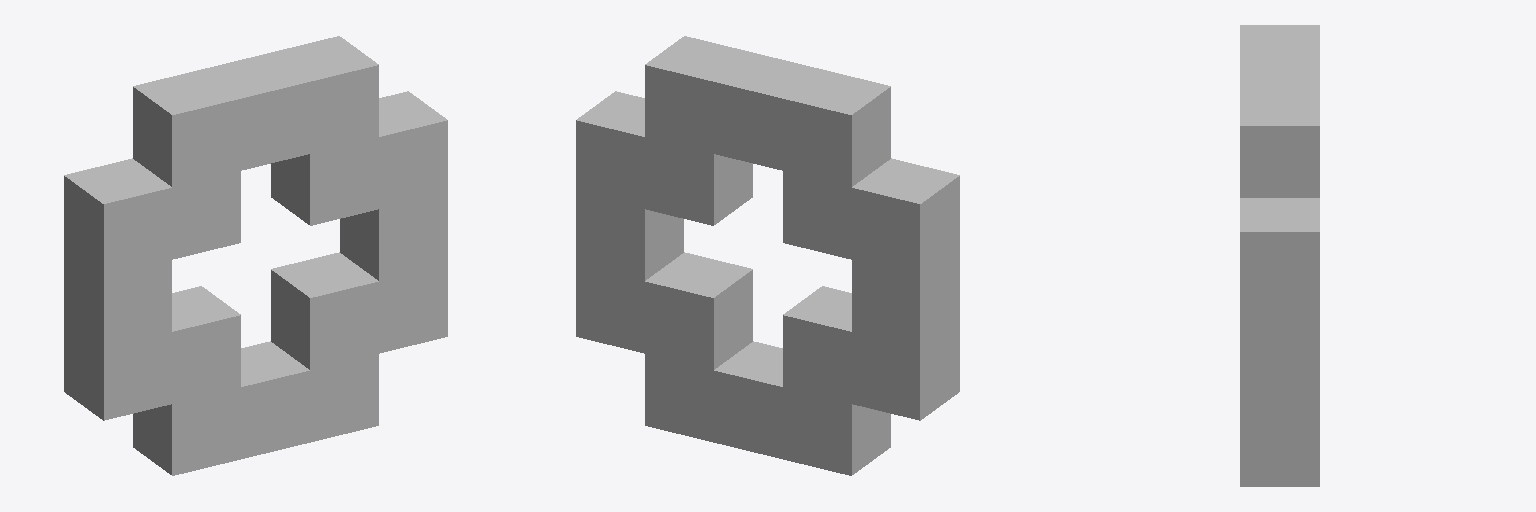
Rendered from Coin.obj.
3 renders of one model, left to right at view 1: azimuth 30°, elevation 25°; view 2: azimuth 150°, elevation 25°; view 3: azimuth 270°, elevation 25°, orthographic.
Visible parts, largest first — view 1: Coin; view 2: Coin; view 3: Coin.
Part boxes in pixels (x1,y1,x2,y2): Coin: (64,36,447,475); Coin: (576,36,959,475); Coin: (1240,25,1319,486).
Size of the model in its own units: 5 by 5 by 1.